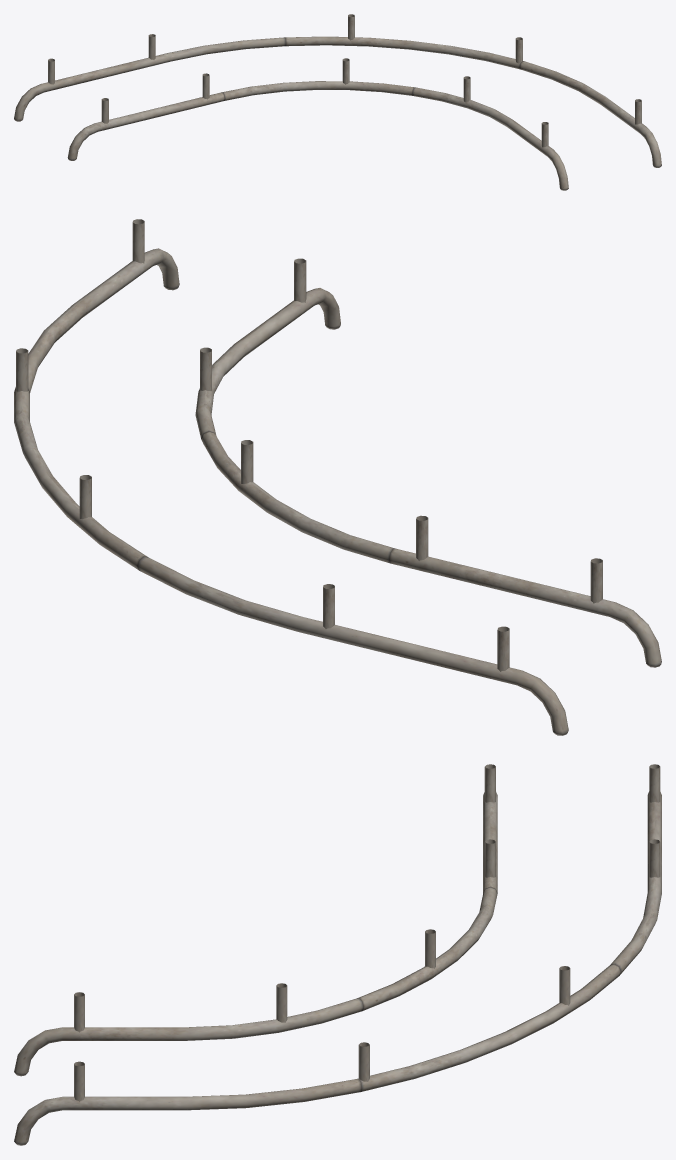
Rendered from lighting_rig_masters_special.dae.
3 renders of one model, top to bottom at view 1: azimuth 30°, elevation 25°; view 2: azimuth 150°, elevation 25°; view 3: azimuth 270°, elevation 25°, orthographic. The views are drawn at different scales.
Visible parts, largest first — view 1: rig; view 2: rig; view 3: rig.
Part boxes in pixels (x1=…): rig: x1=14, y1=14, x2=661, y2=190; rig: x1=14, y1=219, x2=661, y2=735; rig: x1=14, y1=764, x2=661, y2=1145.
Bounding box in the file's own units: 5.91 × 0.675 × 4.93.
